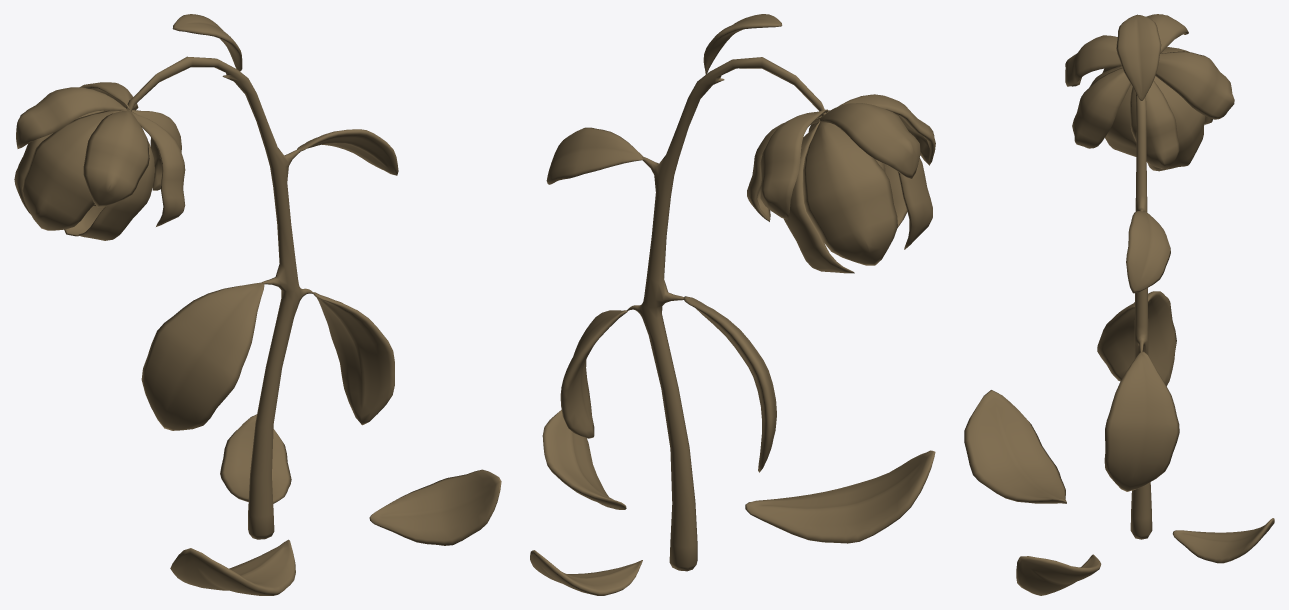
File: DeadPlant.fbx
The picture shows the model from 3 angles, left to right: view 1: azimuth 30°, elevation 25°; view 2: azimuth 150°, elevation 25°; view 3: azimuth 270°, elevation 25°; orthographic projection. The views are drawn at different scales.
Parts seen in each view (by area): view 1: Leaf.196, Cube.006, Leaf.214, Leaf.197, Leaf.211, Leaf.207, Leaf.213, Leaf.208, Leaf.215, Leaf.210, Leaf.199, Leaf.209 (+4 smaller); view 2: Cube.006, Leaf.200, Leaf.213, Leaf.208, Leaf.205, Leaf.214, Leaf.209, Leaf.211, Leaf.196, Leaf.198, Leaf.215, Leaf.197 (+4 smaller); view 3: Leaf.213, Leaf.211, Leaf.196, Leaf.205, Cube.006, Leaf.210, Leaf.209, Leaf.212, Leaf.206, Leaf.214, Leaf.215, Leaf.198 (+3 smaller).
Boxes of the visible parts, <box> form: Leaf.196: <box>141,282,264,430</box>; Cube.006: <box>126,56,315,539</box>; Leaf.214: <box>369,469,501,545</box>; Leaf.197: <box>22,108,127,230</box>; Leaf.211: <box>314,292,394,425</box>; Leaf.207: <box>83,110,149,207</box>; Leaf.213: <box>170,539,295,595</box>; Leaf.208: <box>16,87,125,148</box>; Leaf.215: <box>220,414,291,503</box>; Leaf.210: <box>132,111,185,226</box>; Leaf.199: <box>78,141,154,240</box>; Leaf.209: <box>297,129,398,175</box>; Cube.006: <box>626,57,826,571</box>; Leaf.200: <box>803,121,897,265</box>; Leaf.213: <box>745,450,935,543</box>; Leaf.208: <box>819,103,920,178</box>; Leaf.205: <box>760,109,828,219</box>; Leaf.214: <box>542,410,626,509</box>; Leaf.209: <box>546,127,643,184</box>; Leaf.211: <box>560,310,627,438</box>; Leaf.196: <box>683,296,776,472</box>; Leaf.198: <box>784,122,854,273</box>; Leaf.215: <box>530,550,642,595</box>; Leaf.197: <box>897,158,932,249</box>; Leaf.213: <box>964,390,1066,503</box>; Leaf.211: <box>1104,351,1179,491</box>; Leaf.196: <box>1097,291,1176,385</box>; Leaf.205: <box>1155,51,1234,119</box>; Cube.006: <box>1130,93,1152,539</box>; Leaf.210: <box>1072,68,1130,148</box>; Leaf.209: <box>1126,211,1170,293</box>; Leaf.212: <box>1116,14,1161,100</box>; Leaf.206: <box>1130,80,1179,168</box>; Leaf.214: <box>1016,554,1101,595</box>; Leaf.215: <box>1172,518,1274,563</box>; Leaf.198: <box>1147,76,1205,171</box>.
Bounding box in the file's own units: 0.6069 × 0.4419 × 0.7616.
